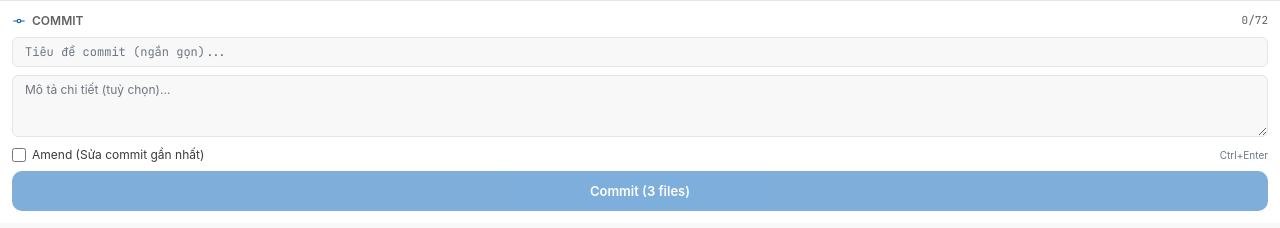
CommitBox › disables commit button when summary is empty or stagedCount is 0
The image size is (1280, 228).
Expected: the button with test id "commit-button" is disabled, [12, 171, 1268, 211]
In the field with test id "commit-summary-input": (640, 52) [12, 37, 1268, 67], type "feat: new feature"
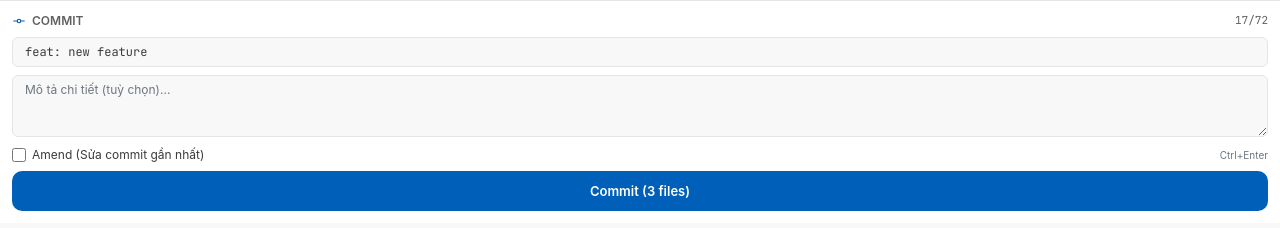
Now the button with test id "commit-button" is enabled, box [12, 171, 1268, 211]
